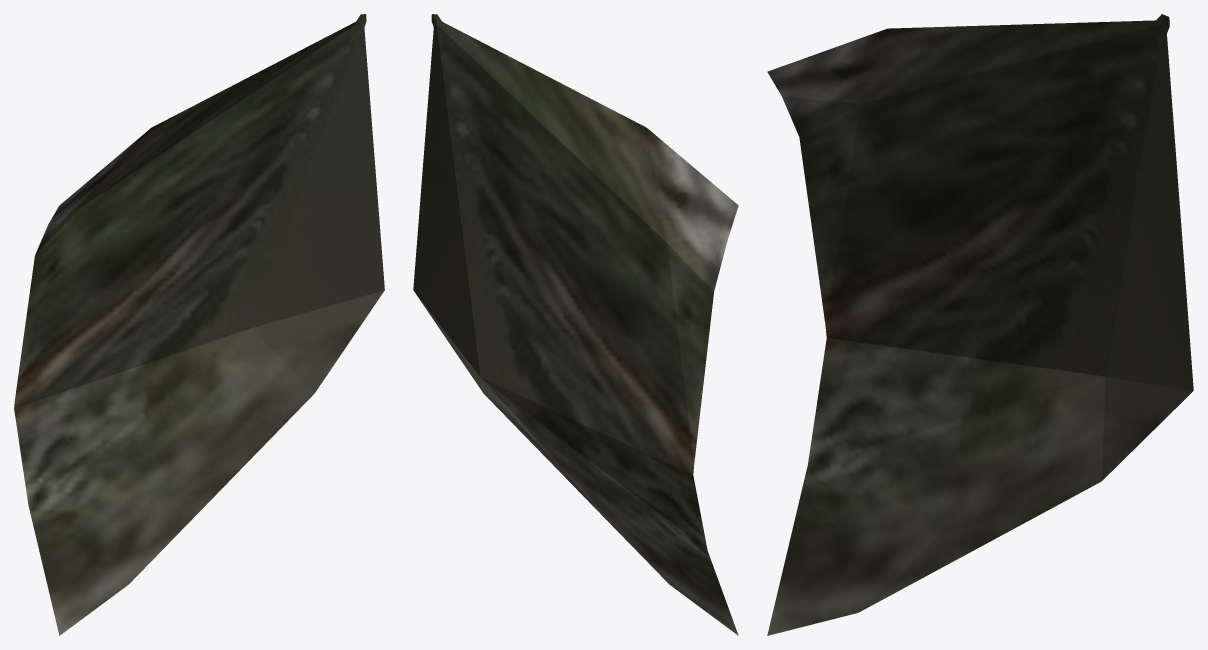
3 renders of one model, left to right at view 1: azimuth 30°, elevation 25°; view 2: azimuth 150°, elevation 25°; view 3: azimuth 330°, elevation 25°, orthographic. The views are drawn at different scales.
Bounding box in the file's own units: 0.9156 × 1.47 × 0.2213.
Materials: 1 (1 with a texture image).
